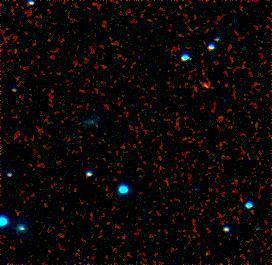star: (196, 74, 226, 104)
